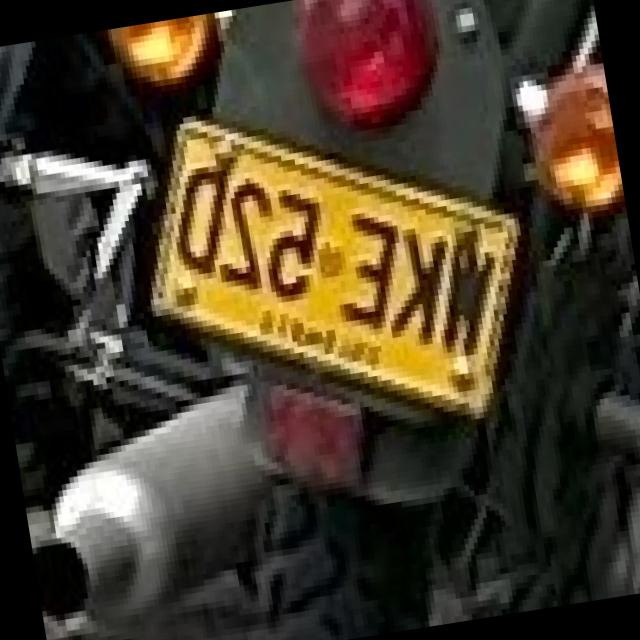number plate: (159, 110, 522, 407)
